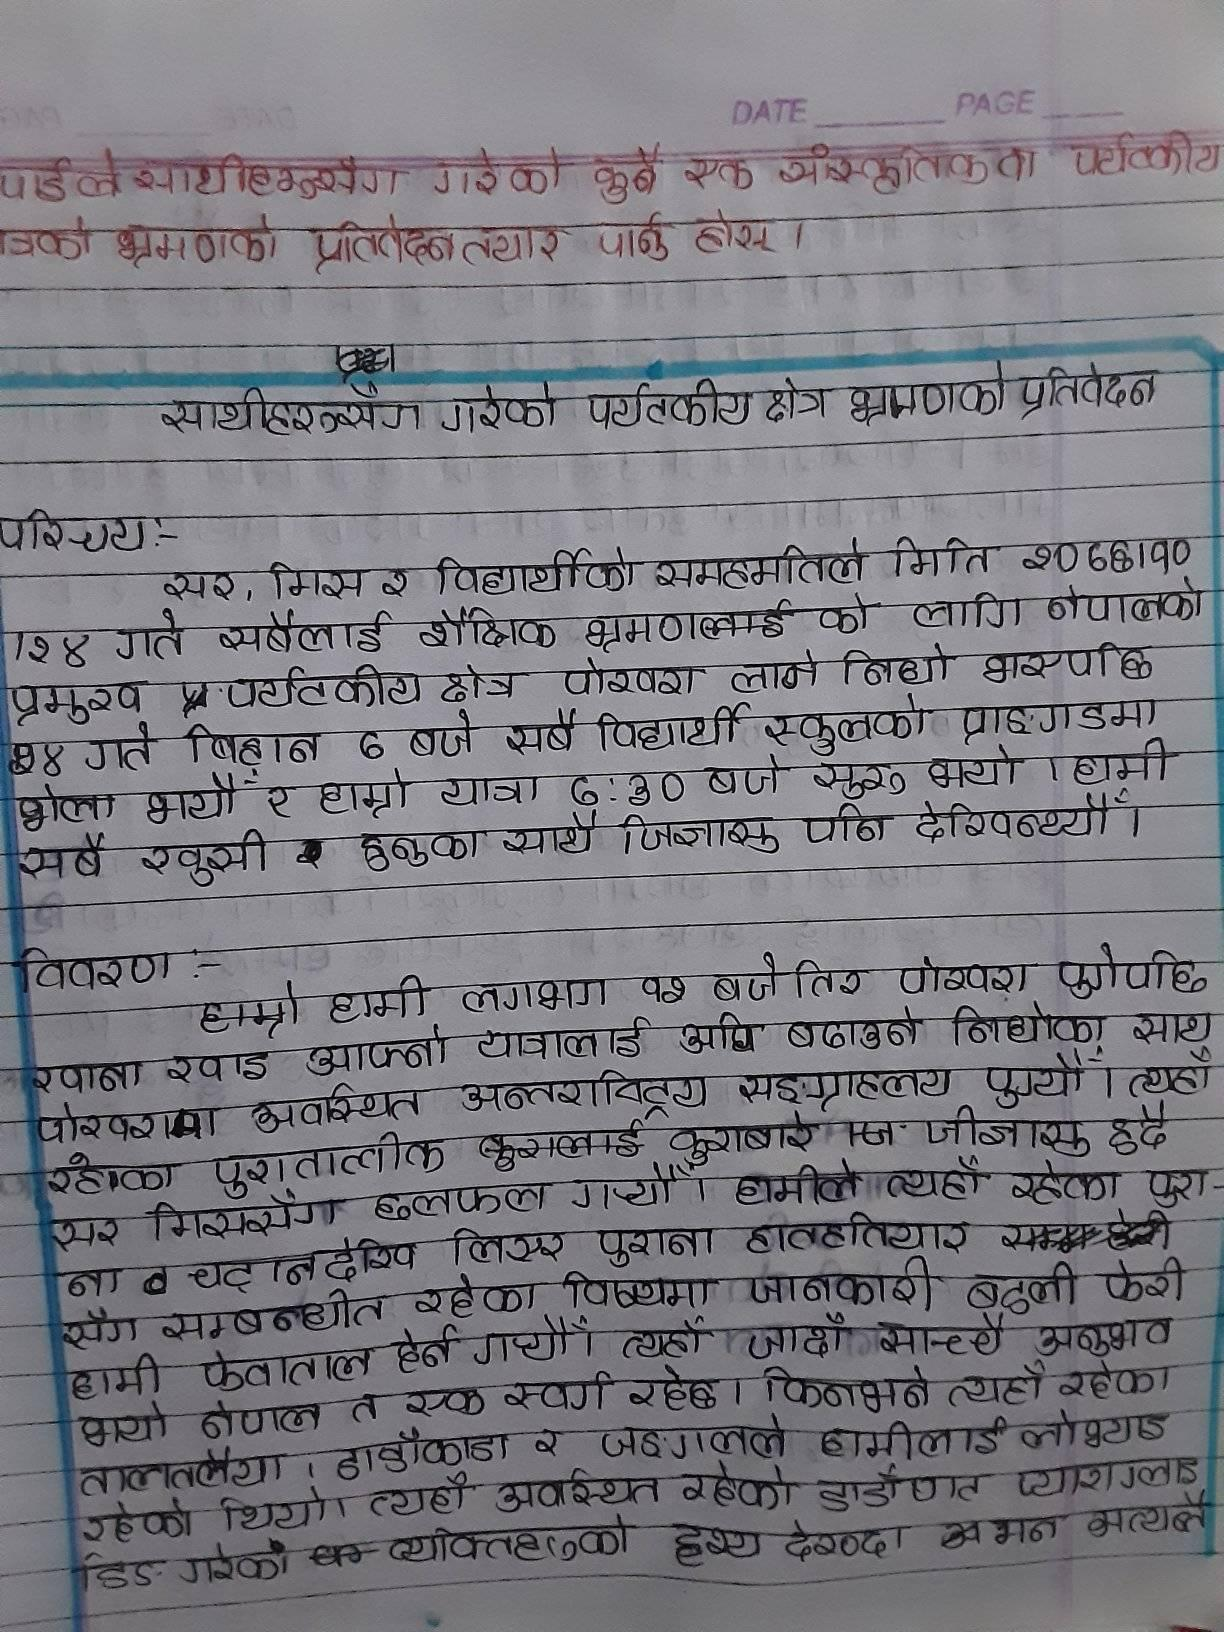text: (129, 146, 410, 204), (770, 140, 1043, 193), (154, 384, 426, 437), (183, 1236, 420, 1294), (449, 1067, 714, 1118), (211, 1131, 447, 1187), (582, 590, 795, 653), (910, 788, 1126, 848), (426, 544, 645, 600), (744, 1254, 940, 1316), (382, 1516, 642, 1563), (652, 535, 869, 590), (73, 1444, 291, 1500), (158, 1291, 390, 1343), (305, 207, 463, 281), (843, 357, 1011, 427), (743, 1205, 975, 1255), (219, 661, 428, 716), (958, 686, 1156, 740), (108, 211, 279, 272), (762, 694, 930, 756), (332, 1424, 512, 1480), (212, 607, 400, 661), (148, 1187, 345, 1239), (980, 634, 1158, 690), (735, 1061, 959, 1106), (1056, 939, 1211, 1004), (1012, 359, 1164, 424), (759, 1361, 933, 1417), (598, 1411, 788, 1462), (192, 1342, 381, 1393), (811, 1461, 993, 1514), (813, 1414, 1013, 1461), (579, 379, 756, 430), (593, 696, 750, 754), (3, 499, 148, 560), (1014, 1453, 1205, 1500), (922, 1105, 1093, 1157), (471, 1115, 645, 1166), (12, 939, 174, 993), (615, 810, 783, 861), (32, 1101, 224, 1146), (474, 1014, 651, 1063), (492, 1464, 663, 1514), (175, 716, 329, 771), (422, 146, 572, 203), (249, 1083, 428, 1131), (303, 1022, 450, 1077), (140, 826, 271, 887), (458, 206, 566, 279), (982, 1047, 1104, 1112), (372, 1178, 555, 1221), (1018, 536, 1194, 580), (665, 1112, 822, 1160), (1039, 581, 1205, 626), (5, 677, 149, 729), (558, 1270, 720, 1315), (1021, 1406, 1173, 1453), (876, 1308, 1012, 1361), (3, 150, 129, 207), (417, 604, 558, 654), (894, 948, 1035, 998), (455, 974, 615, 1018), (949, 1004, 1108, 1047), (675, 1457, 801, 1512), (964, 1258, 1079, 1318), (1026, 1313, 1175, 1360), (778, 1516, 912, 1568), (733, 1157, 864, 1208), (555, 657, 705, 702), (1083, 1492, 1212, 1543), (438, 384, 564, 437), (570, 1160, 696, 1213), (357, 824, 489, 874), (786, 1004, 924, 1050), (683, 206, 786, 267), (746, 1306, 852, 1365), (591, 1221, 720, 1270), (44, 1151, 183, 1196), (411, 1271, 543, 1318), (832, 641, 958, 690), (9, 781, 120, 837), (1066, 738, 1182, 790), (665, 1516, 768, 1575), (197, 980, 303, 1037), (886, 529, 1000, 581), (885, 1153, 993, 1207), (210, 1486, 336, 1532), (78, 1497, 197, 1546), (473, 1317, 588, 1367), (195, 1397, 324, 1441), (141, 770, 240, 826), (447, 1221, 564, 1268), (177, 1539, 294, 1587), (566, 766, 693, 810), (501, 808, 602, 864), (944, 1356, 1048, 1408), (505, 1367, 615, 1417), (431, 767, 548, 813), (1009, 1158, 1122, 1205), (328, 971, 429, 1024), (309, 771, 415, 821), (913, 591, 1036, 634), (798, 801, 897, 853), (1059, 129, 1149, 186), (590, 209, 676, 270), (924, 741, 1027, 792), (1058, 1357, 1173, 1402), (30, 1054, 147, 1097), (1099, 1255, 1192, 1309), (588, 140, 663, 206), (707, 948, 789, 1007), (435, 655, 525, 709), (267, 559, 369, 607), (18, 831, 109, 884), (627, 1363, 725, 1412), (676, 143, 759, 200), (1125, 1050, 1218, 1101), (363, 1474, 474, 1516), (75, 1403, 172, 1451), (615, 1317, 715, 1363), (68, 1353, 165, 1401), (167, 1047, 275, 1090), (66, 1550, 168, 1593), (113, 610, 189, 670), (811, 757, 908, 802), (729, 650, 818, 699), (789, 953, 873, 1005), (500, 704, 579, 757), (408, 705, 482, 761), (762, 371, 832, 430), (679, 1010, 765, 1058), (702, 752, 786, 801), (24, 621, 96, 677), (54, 1304, 139, 1351), (78, 729, 156, 776), (1138, 1160, 1212, 1209), (1107, 1101, 1173, 1157), (392, 1324, 462, 1374), (162, 565, 239, 610), (1124, 1007, 1215, 1045), (5, 732, 69, 784), (402, 1381, 489, 1419), (986, 1511, 1065, 1551), (48, 1211, 123, 1252), (813, 592, 876, 640), (58, 1261, 125, 1299), (638, 969, 690, 1009), (260, 781, 302, 829), (352, 726, 390, 771), (528, 1423, 570, 1462), (378, 562, 411, 607), (348, 1390, 384, 1424)
